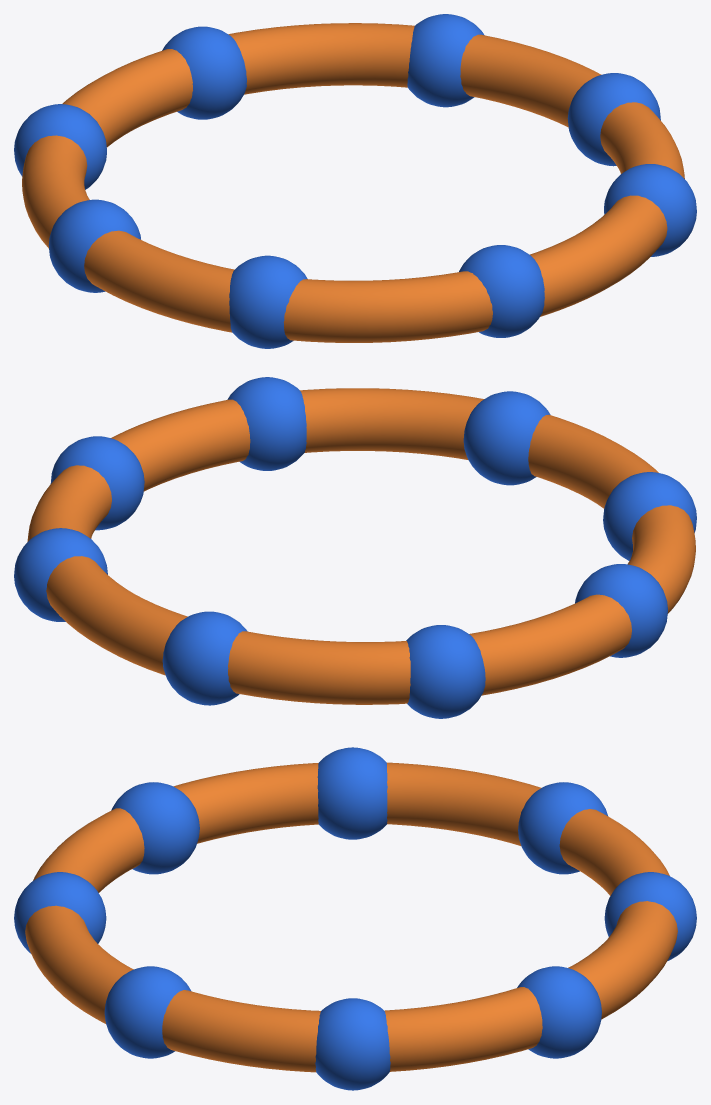
Rendered from copperRingCurrent.gltf.
3 renders of one model, top to bottom at view 1: azimuth 30°, elevation 25°; view 2: azimuth 150°, elevation 25°; view 3: azimuth 270°, elevation 25°, orthographic.
Visible parts, largest first — view 1: Torus.001, Sphere.006, Sphere.003, Sphere.002, Sphere.005, Sphere, Sphere.001, Sphere.007, Sphere.004; view 2: Torus.001, Sphere.004, Sphere.003, Sphere.002, Sphere.007, Sphere, Sphere.001, Sphere.005, Sphere.006; view 3: Torus.001, Sphere.001, Sphere, Sphere.005, Sphere.007, Sphere.006, Sphere.004, Sphere.003, Sphere.002.
Boxes of the visible parts, bbox=[...] form: Torus.001: bbox=[22, 23, 684, 342]; Sphere.006: bbox=[229, 255, 307, 348]; Sphere.003: bbox=[459, 245, 544, 337]; Sphere.002: bbox=[162, 26, 246, 119]; Sphere.005: bbox=[407, 14, 484, 107]; Sphere: bbox=[48, 199, 140, 292]; Sphere.001: bbox=[567, 73, 660, 166]; Sphere.007: bbox=[604, 164, 696, 256]; Sphere.004: bbox=[14, 104, 106, 189]; Torus.001: bbox=[27, 388, 695, 704]; Sphere.004: bbox=[406, 625, 485, 718]; Sphere.003: bbox=[463, 391, 550, 485]; Sphere.002: bbox=[162, 611, 247, 705]; Sphere.007: bbox=[227, 377, 306, 470]; Sphere: bbox=[575, 564, 667, 657]; Sphere.001: bbox=[50, 436, 144, 530]; Sphere.005: bbox=[14, 528, 107, 621]; Sphere.006: bbox=[603, 472, 696, 560]; Torus.001: bbox=[25, 762, 677, 1072]; Sphere.001: bbox=[315, 998, 390, 1090]; Sphere: bbox=[317, 747, 387, 839]; Sphere.005: bbox=[517, 966, 601, 1058]; Sphere.007: bbox=[104, 966, 191, 1058]; Sphere.006: bbox=[111, 782, 199, 874]; Sphere.004: bbox=[518, 782, 607, 874]; Sphere.003: bbox=[14, 872, 106, 953]; Sphere.002: bbox=[604, 872, 696, 960].
Size of the model in its own units: 2.78 by 0.3752 by 2.77.
